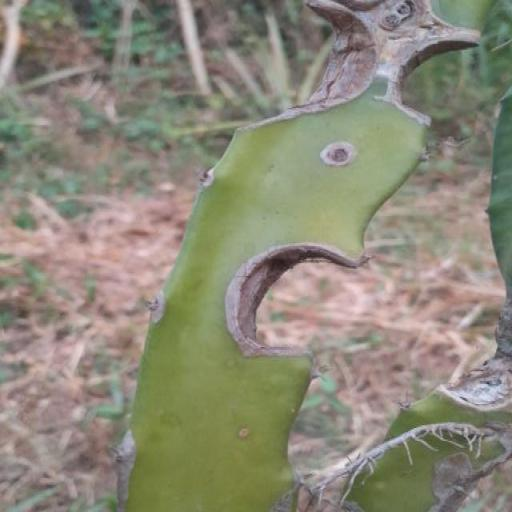stemcanker: (233, 420, 255, 444)
